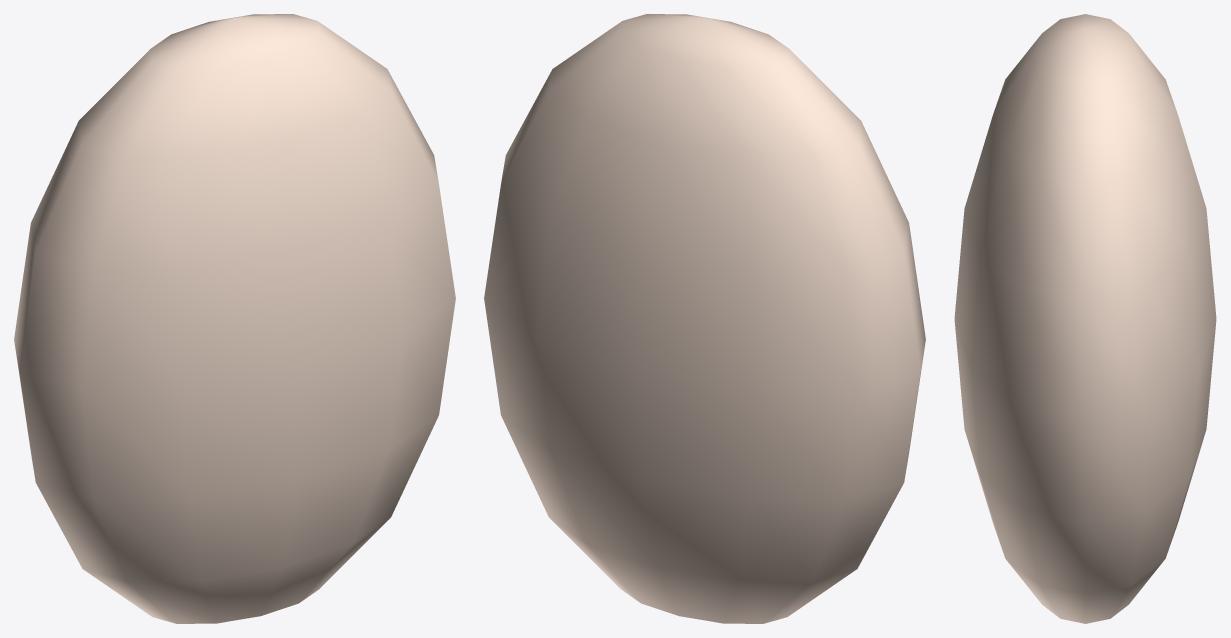
Rendered from faces-chibi-01.glb.
3 renders of one model, left to right at view 1: azimuth 30°, elevation 25°; view 2: azimuth 150°, elevation 25°; view 3: azimuth 270°, elevation 25°, orthographic. The views are drawn at different scales.
Visible parts, largest first — view 1: part_0; view 2: part_0; view 3: part_0.
Boxes of the visible parts, bbox=[...] form: part_0: bbox=[14, 14, 455, 623]; part_0: bbox=[484, 14, 925, 623]; part_0: bbox=[954, 14, 1216, 623].
Size of the model in its own units: 1.02 by 1.36 by 0.56.
